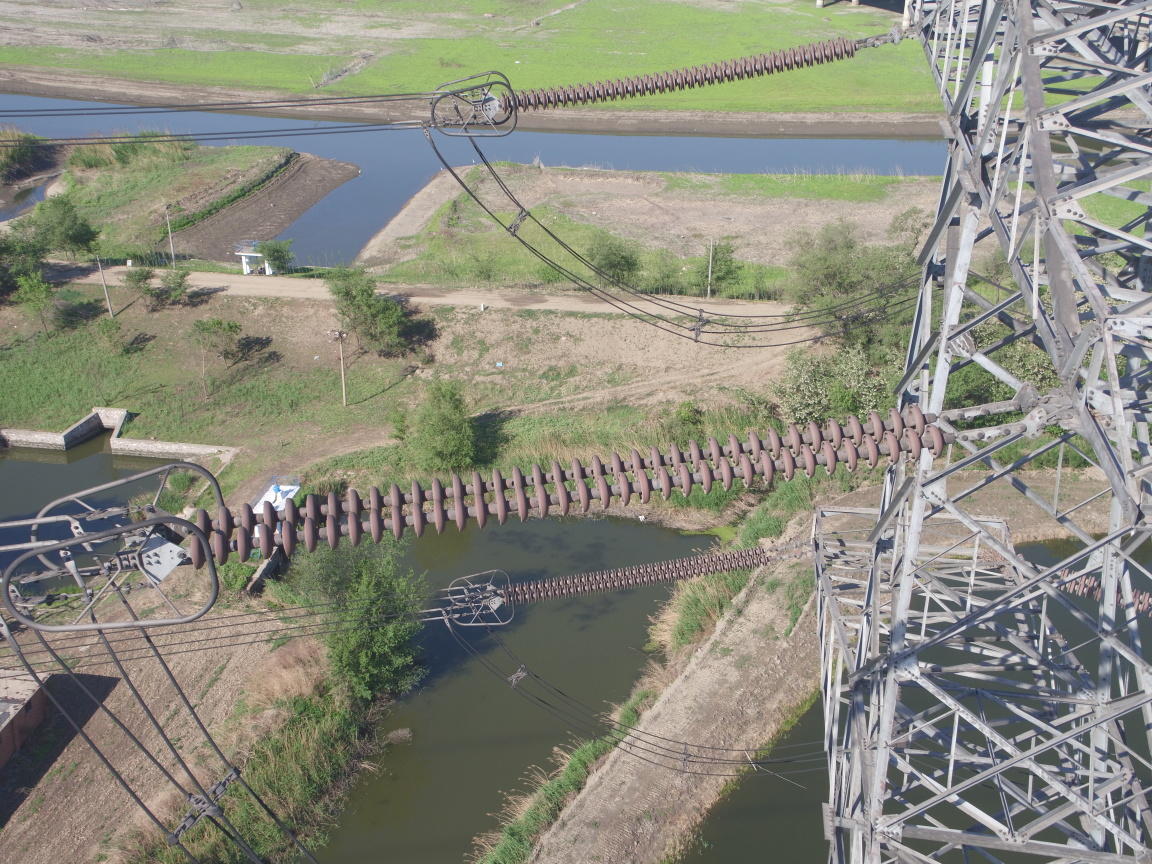insulator: (160, 403, 989, 573), (494, 32, 887, 117), (493, 541, 793, 608)
